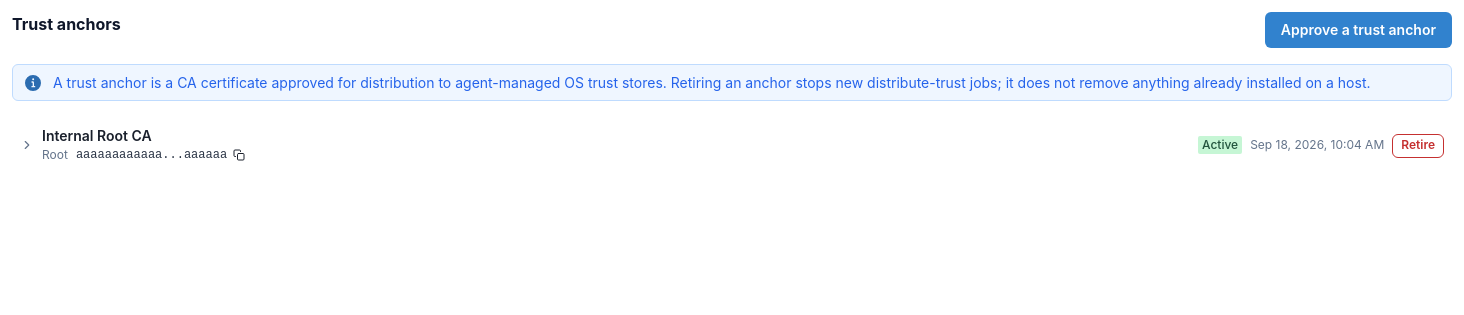
Test: TrustAnchorsPanel › still shows the raw last_error text for a genuine unrelated error, without the stalled badge
Click the text "Internal Root CA" at (97, 136), box left=42, top=127, right=152, bottom=144
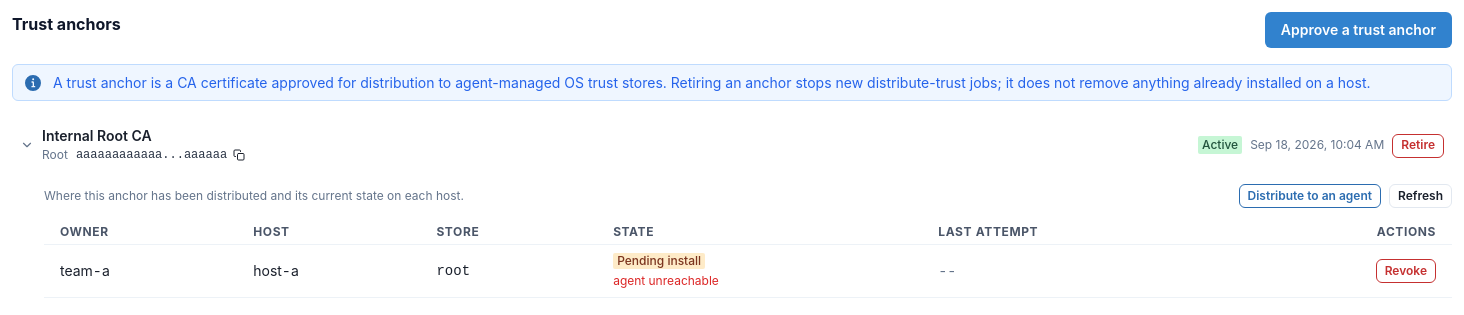
Check: the text "agent unreachable" is shown, box left=613, top=273, right=719, bottom=289
